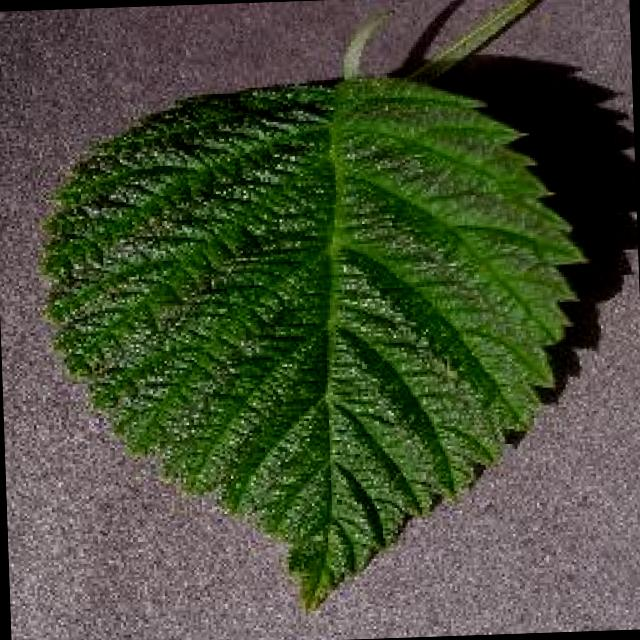healthy: (49, 23, 583, 608)
